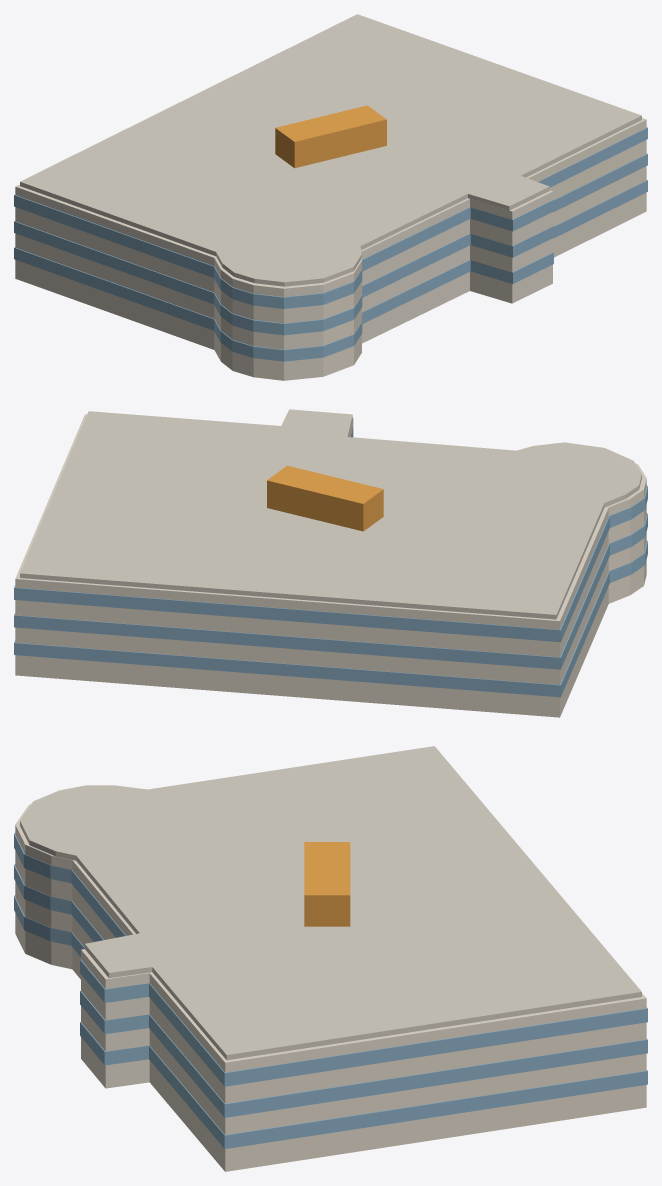
The model's file is junction_square.glb.
The picture shows the model from 3 angles, top to bottom: view 1: azimuth 30°, elevation 25°; view 2: azimuth 150°, elevation 25°; view 3: azimuth 270°, elevation 25°; orthographic projection. The views are drawn at different scales.
Parts seen in each view (by area): view 1: part; view 2: part; view 3: part.
Boxes of the visible parts, x1,y1,x2,y2 form: part: (14, 14, 647, 380); part: (14, 409, 647, 717); part: (14, 746, 647, 1171).
Bounding box in the file's own units: 130 × 28 × 110.
